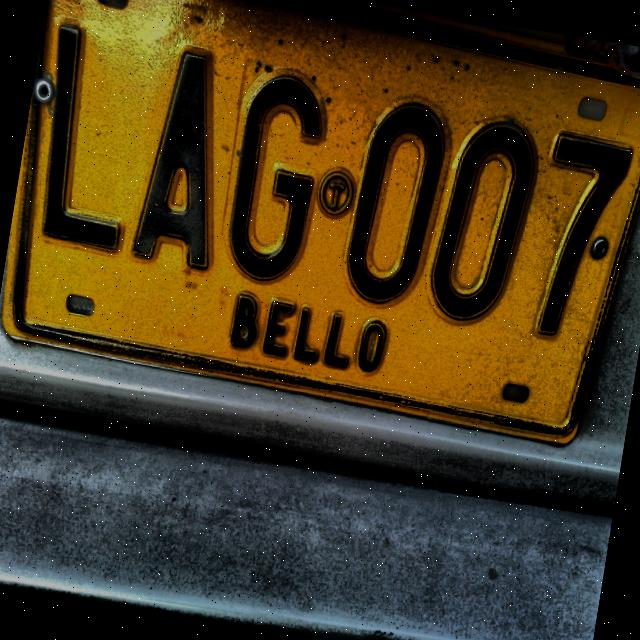0: (337, 79, 467, 317), (416, 106, 552, 332)
7: (518, 121, 640, 352)
A: (125, 42, 238, 276)
G: (220, 55, 344, 291)
L: (37, 22, 129, 258)
